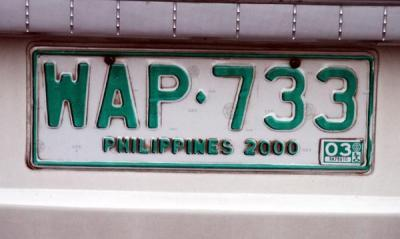plate: (29, 45, 373, 173)
